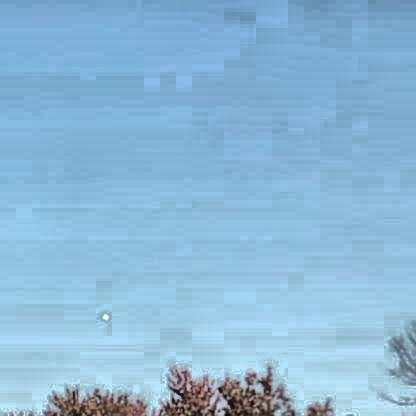golfball: (99, 309, 109, 319)
